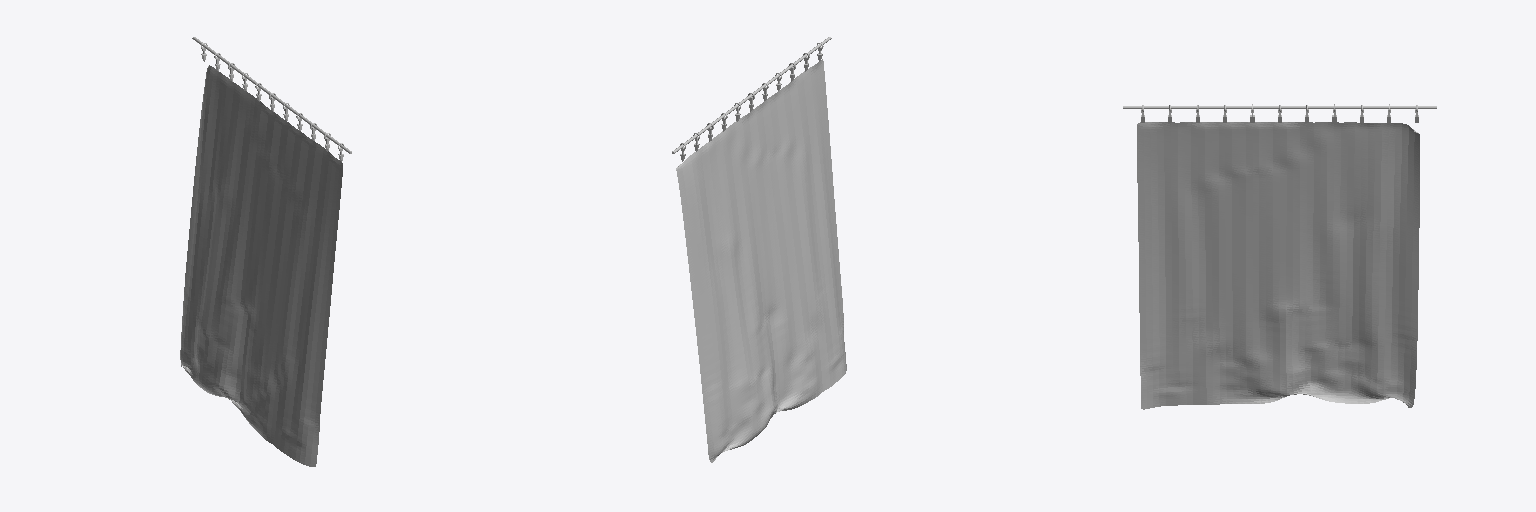
Rendered from Curtains.obj.
3 views of the same model, side by side, from view 1: azimuth 30°, elevation 25°; view 2: azimuth 150°, elevation 25°; view 3: azimuth 270°, elevation 25° (orthographic).
Visible parts, largest first — view 1: Plane, Curtains; view 2: Plane, Curtains; view 3: Plane, Curtains.
Part boxes in pixels (bbox=[...]): Plane: bbox=[180, 65, 342, 466]; Curtains: bbox=[192, 37, 351, 153]; Plane: bbox=[676, 59, 846, 462]; Curtains: bbox=[672, 37, 831, 153]; Plane: bbox=[1137, 122, 1419, 409]; Curtains: bbox=[1123, 106, 1436, 108].
Bounding box in the file's own units: 0.653 × 4.47 × 4.